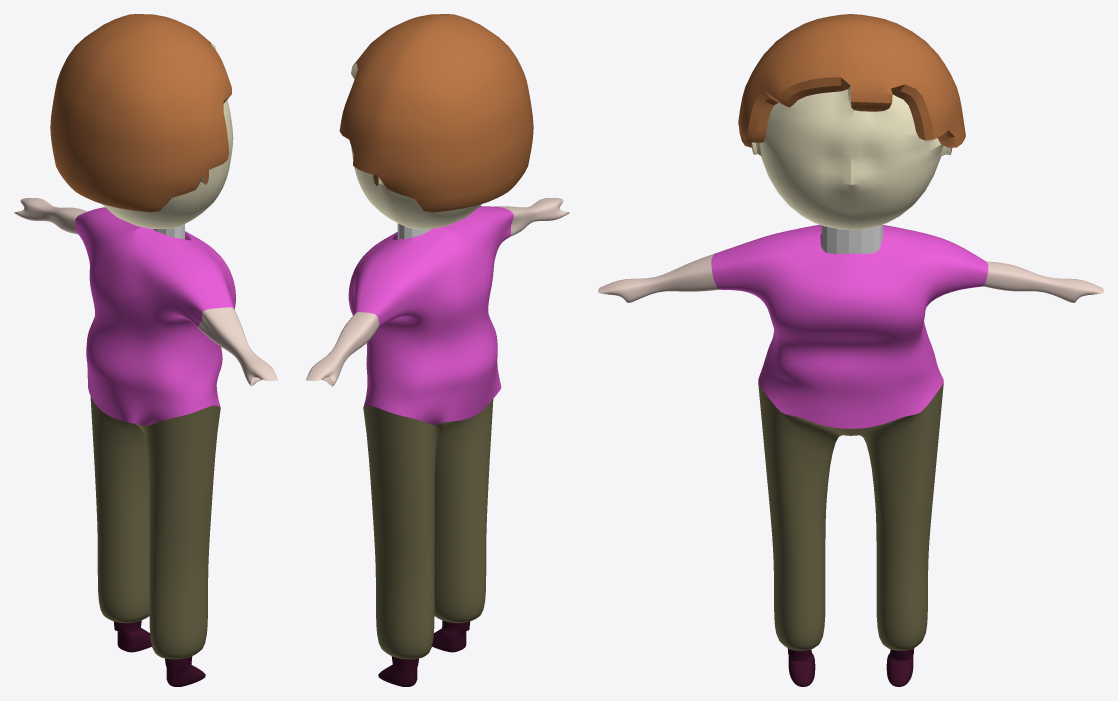
File: kısa saclı kadın.fbx
The picture shows the model from 3 angles, left to right: view 1: azimuth 30°, elevation 25°; view 2: azimuth 150°, elevation 25°; view 3: azimuth 270°, elevation 25°; orthographic projection.
Visible parts, largest first — view 1: Küp.006, Küp.004, Küp.001, Küp.003, Küp, Küp.005; view 2: Küp.006, Küp.004, Küp.001, Küp.003, Küp, Küp.005; view 3: Küp.001, Küp.004, Küp, Küp.006, Küp.003, Küp.005, Silindir.
Part boxes in pixels (x1,y1,x2,y2): Küp.006: [50, 14, 231, 212]; Küp.004: [90, 396, 220, 659]; Küp.001: [75, 207, 235, 425]; Küp.003: [14, 198, 277, 386]; Küp: [102, 43, 233, 228]; Küp.005: [113, 620, 205, 686]; Küp.006: [339, 14, 533, 212]; Küp.004: [363, 399, 493, 659]; Küp.001: [348, 206, 513, 424]; Küp.003: [306, 198, 569, 386]; Küp: [351, 63, 481, 228]; Küp.005: [378, 620, 470, 686]; Küp.001: [711, 224, 988, 428]; Küp.004: [758, 382, 943, 650]; Küp: [752, 86, 951, 230]; Küp.006: [738, 14, 965, 154]; Küp.003: [598, 253, 1103, 302]; Küp.005: [787, 648, 914, 686]; Silindir: [821, 224, 883, 253].
Size of the model in its own units: 188 by 769 by 539.
